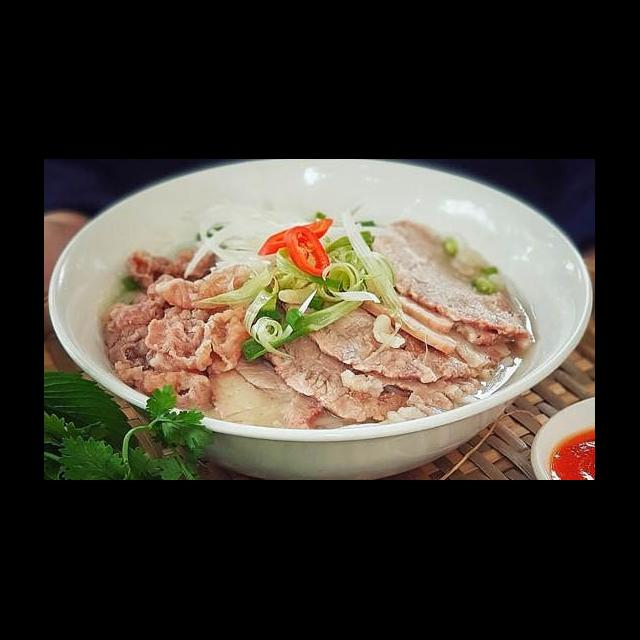thit bo: (369, 217, 542, 346), (274, 294, 498, 386), (86, 290, 218, 420), (260, 331, 418, 424), (140, 262, 264, 378), (202, 354, 326, 444), (120, 240, 222, 304)
